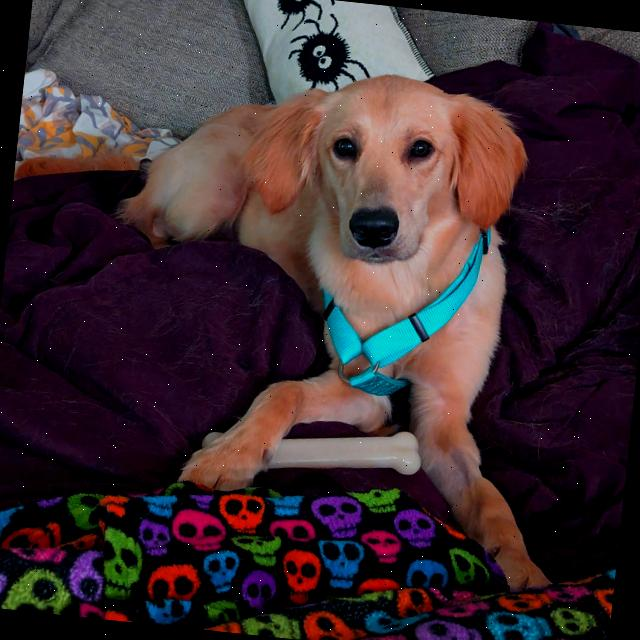golden_retriever_dog: (227, 41, 554, 313)
